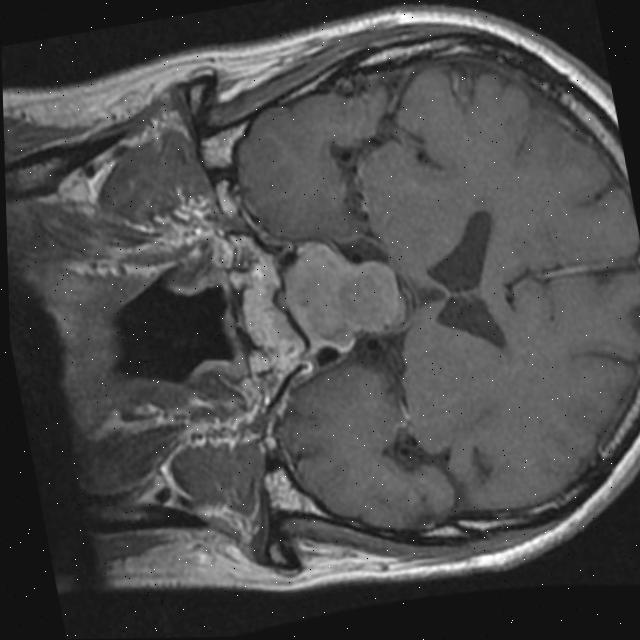Pituitary: (285, 233, 412, 354), (231, 280, 298, 351)
